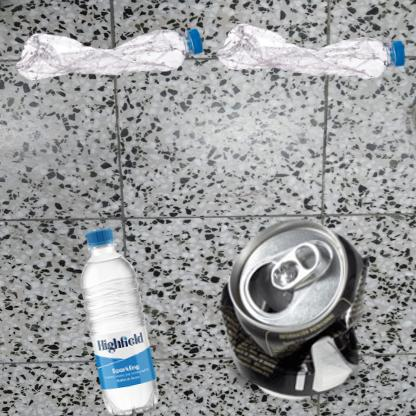botella: (10, 213, 227, 416), (10, 10, 216, 89), (213, 10, 416, 89)
lata: (213, 213, 379, 409)
